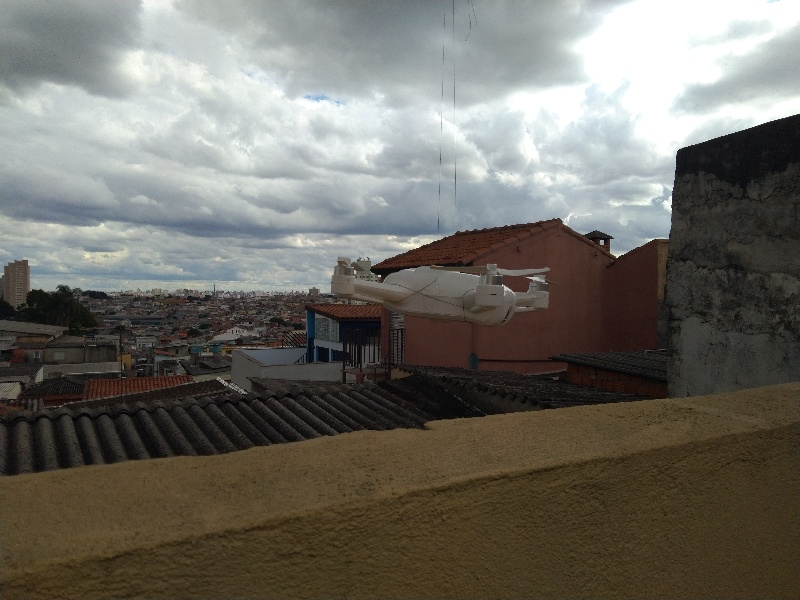drone: (325, 248, 560, 333)
